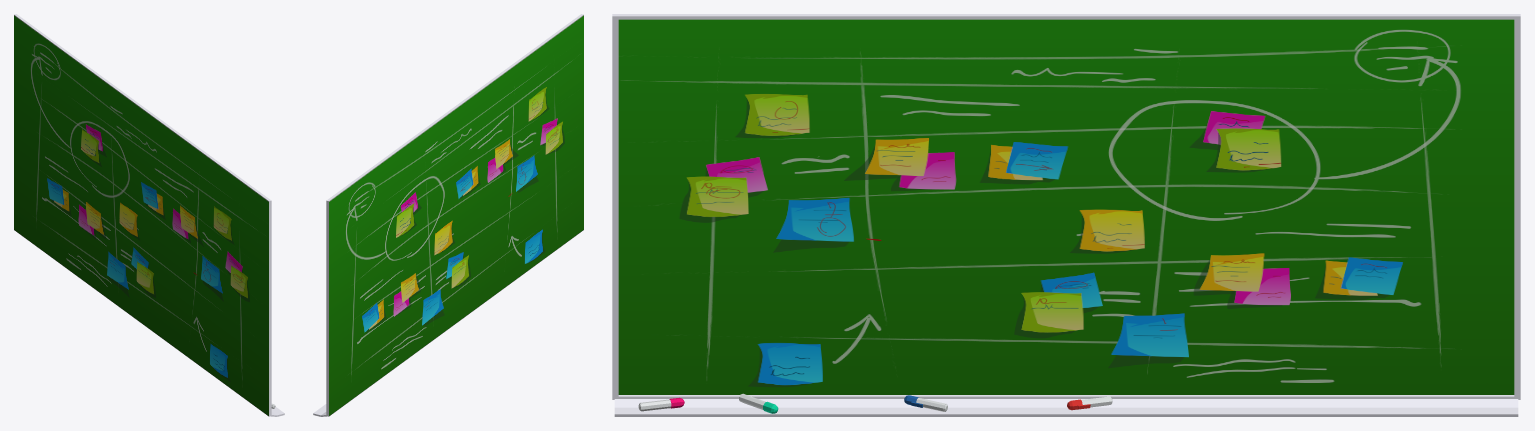
Rendered from writing_board.fbx.
3 views of the same model, side by side, from view 1: azimuth 30°, elevation 25°; view 2: azimuth 150°, elevation 25°; view 3: azimuth 270°, elevation 25° (orthographic). The views are drawn at different scales.
Parts seen in each view (by area): view 1: Plane.085; view 2: Plane.085; view 3: Plane.085.
Part boxes in pixels (bbox=[...]): Plane.085: bbox=[14, 14, 284, 416]; Plane.085: bbox=[313, 14, 583, 416]; Plane.085: bbox=[612, 14, 1520, 416].
Size of the model in its own units: 22.26 by 260 by 550.
2 materials, 2 textured.
